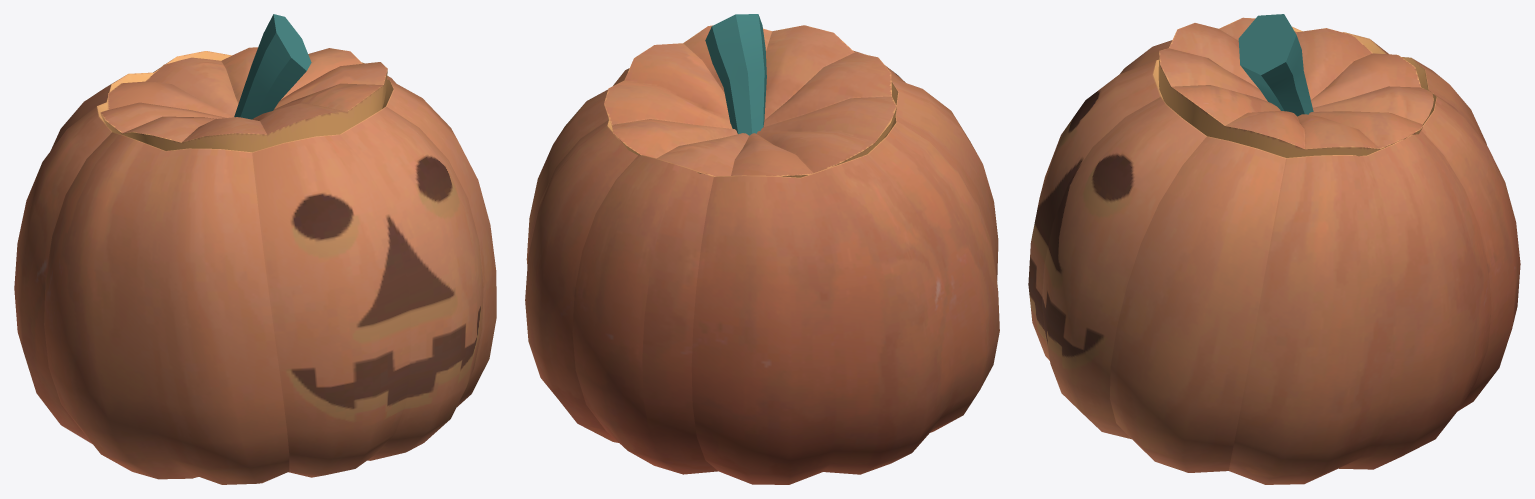
The model's file is CarvePumkin1.fbx.
3 renders of one model, left to right at view 1: azimuth 30°, elevation 25°; view 2: azimuth 150°, elevation 25°; view 3: azimuth 270°, elevation 25°, orthographic. The views are drawn at different scales.
Parts seen in each view (by area): view 1: SM_CarvedPumpkin01; view 2: SM_CarvedPumpkin01; view 3: SM_CarvedPumpkin01.
Part boxes in pixels (x1,y1,x2,y2): SM_CarvedPumpkin01: (14, 14, 496, 484); SM_CarvedPumpkin01: (525, 14, 999, 484); SM_CarvedPumpkin01: (1028, 14, 1520, 484).
Bounding box in the file's own units: 86.83 × 83.03 × 87.38.
